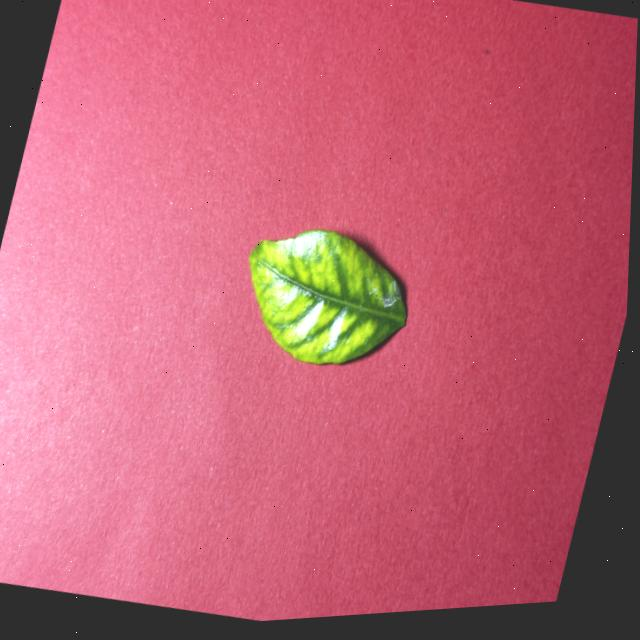greening: (248, 229, 405, 364)
